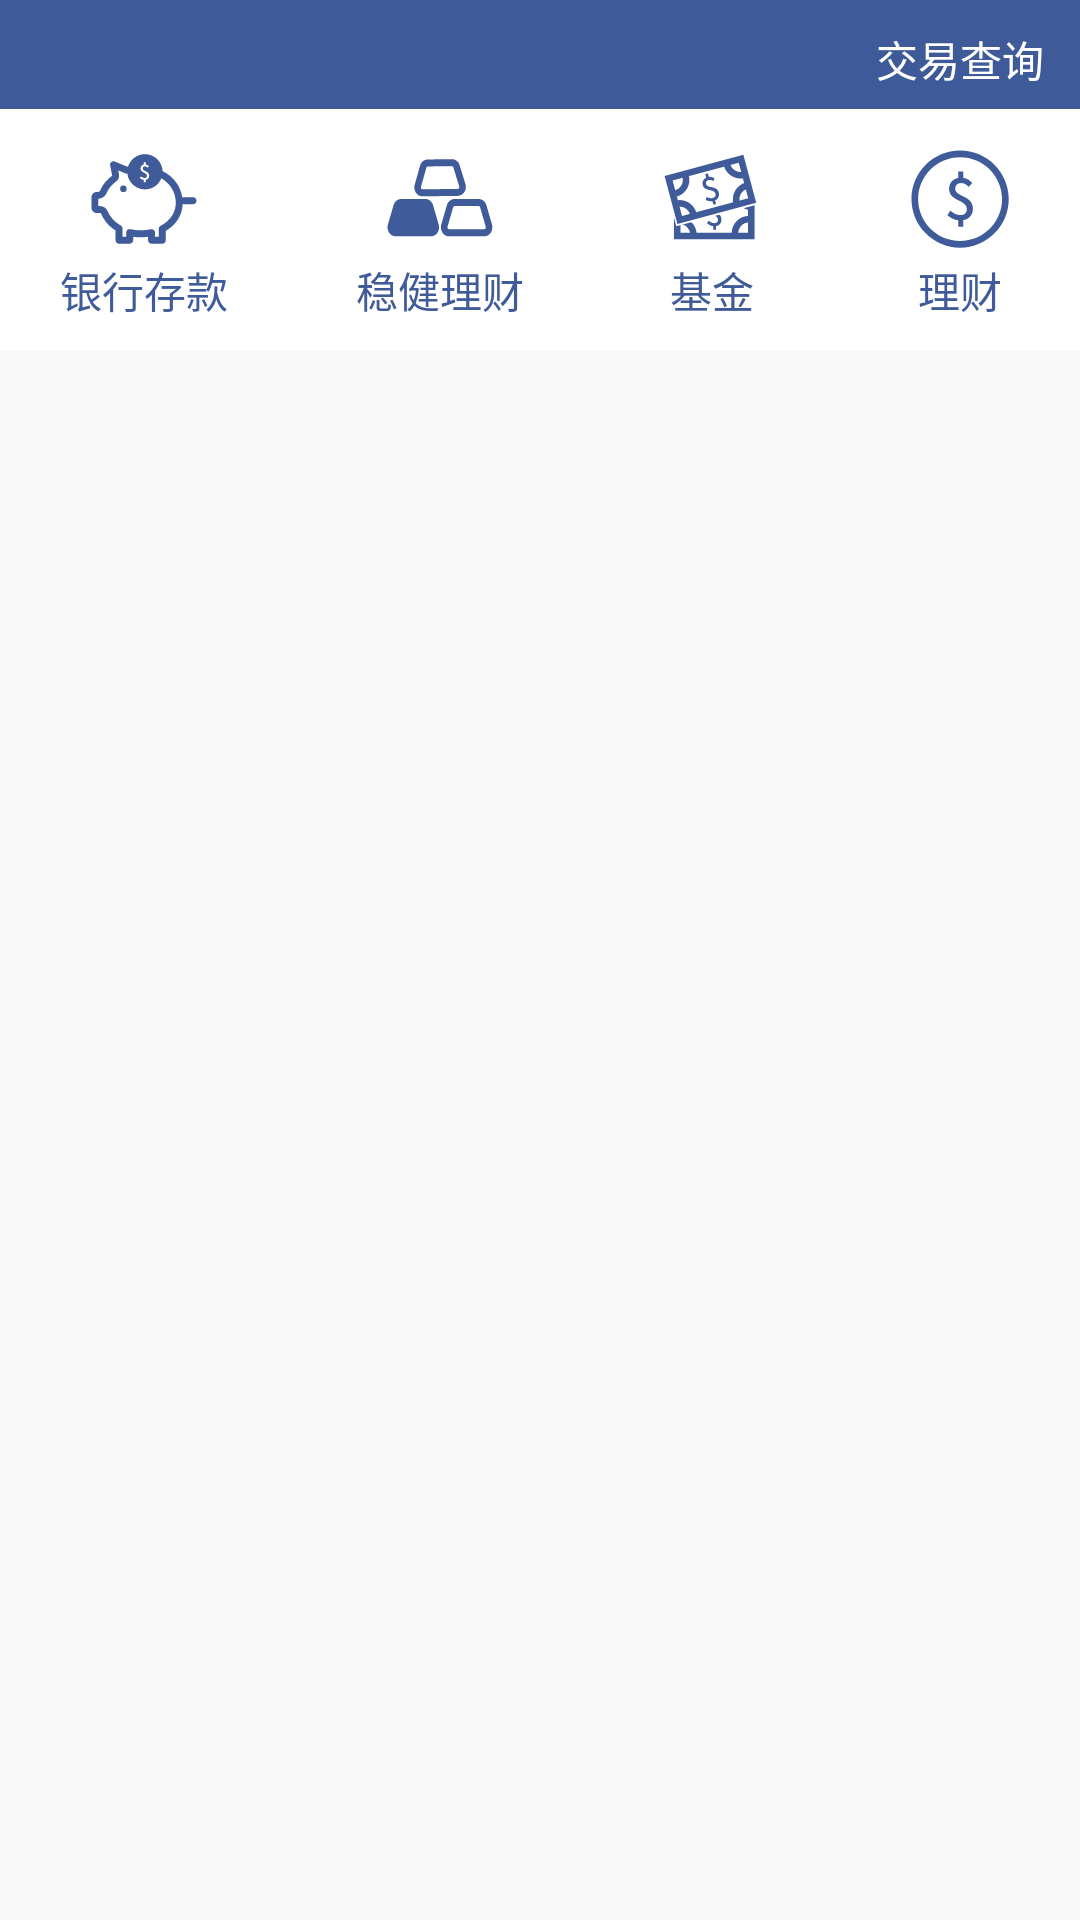

Locate icon controls on the screen. Image size 1080w x 1920h, boxes as (x1=x1, y1=y1, x2=x2, y2=y2).
piggy bank fortune: (x1=91, y1=154, x2=197, y2=244)
